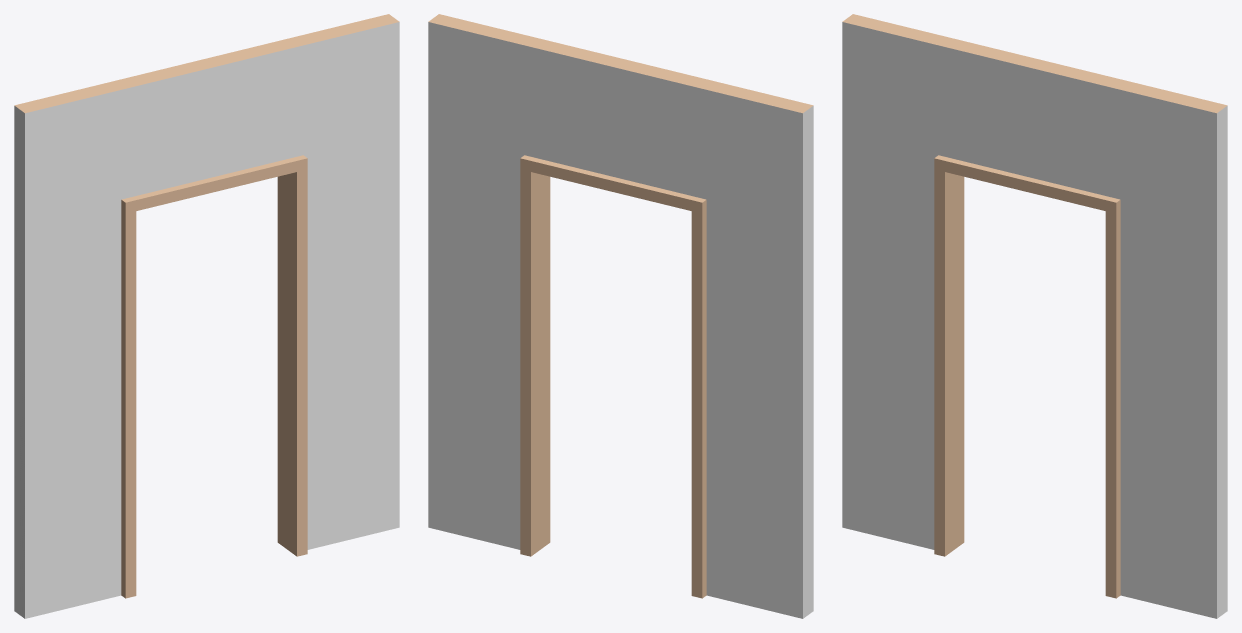
The model's file is wallDoorway2_plain.glb.
The picture shows the model from 3 angles, left to right: view 1: azimuth 30°, elevation 25°; view 2: azimuth 150°, elevation 25°; view 3: azimuth 330°, elevation 25°; orthographic projection.
Parts seen in each view (by area): view 1: wallDoorway(Clone); view 2: wallDoorway(Clone); view 3: wallDoorway(Clone).
Boxes of the visible parts, left/top/right/bottom form: wallDoorway(Clone): left=14, top=14, right=399, bottom=618; wallDoorway(Clone): left=428, top=14, right=813, bottom=618; wallDoorway(Clone): left=842, top=14, right=1227, bottom=618.
Bounding box in the file's own units: 1 × 1.29 × 0.0891.
